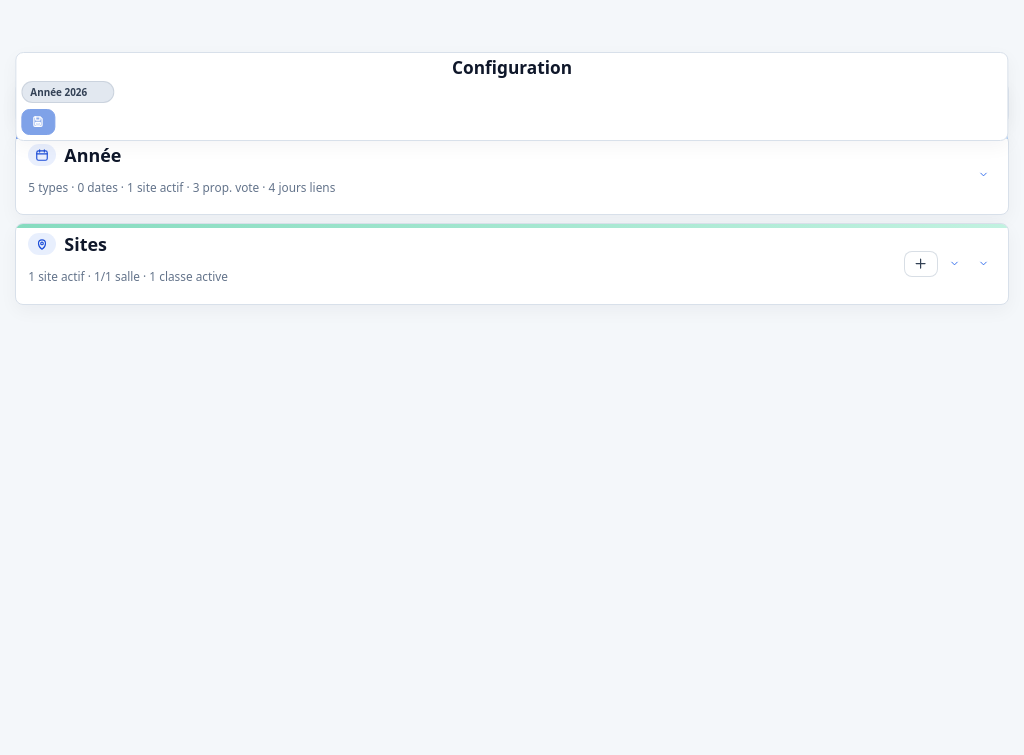
PlanningConfiguration › replie un type en affichant uniquement sa ligne de résumé
This screenshot has width=1024, height=755.
Click the button named "Ouvrir le bloc année" at (984, 175), box [972, 163, 996, 187]
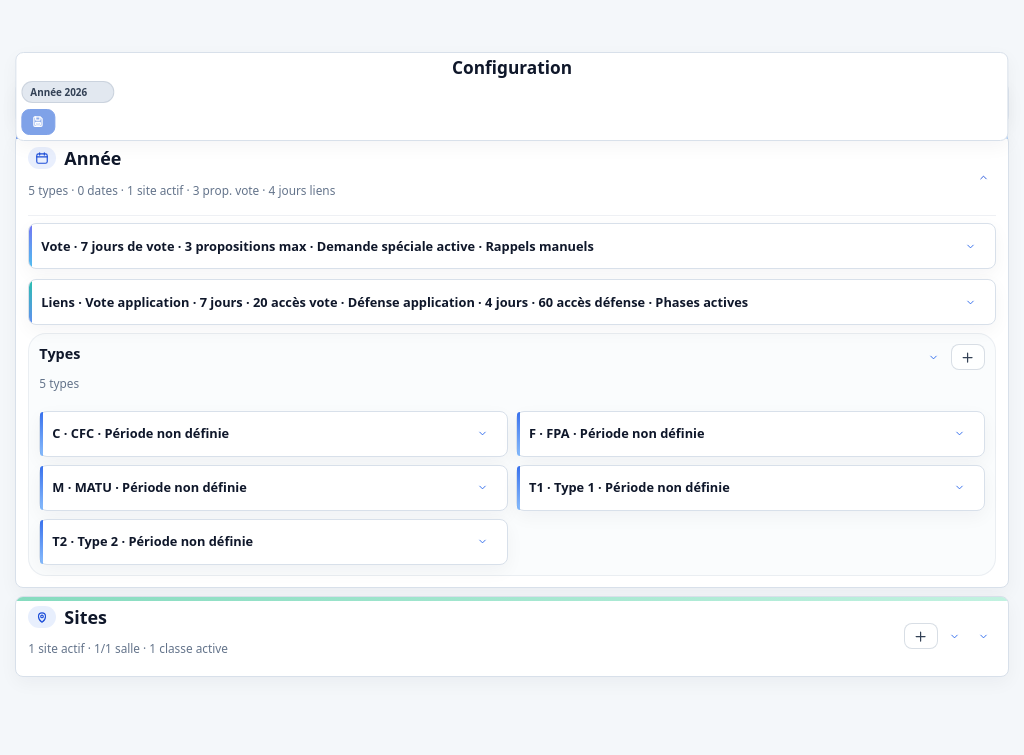
Click the button named "Ouvrir le type Type 2" at (483, 542), box [471, 530, 495, 554]
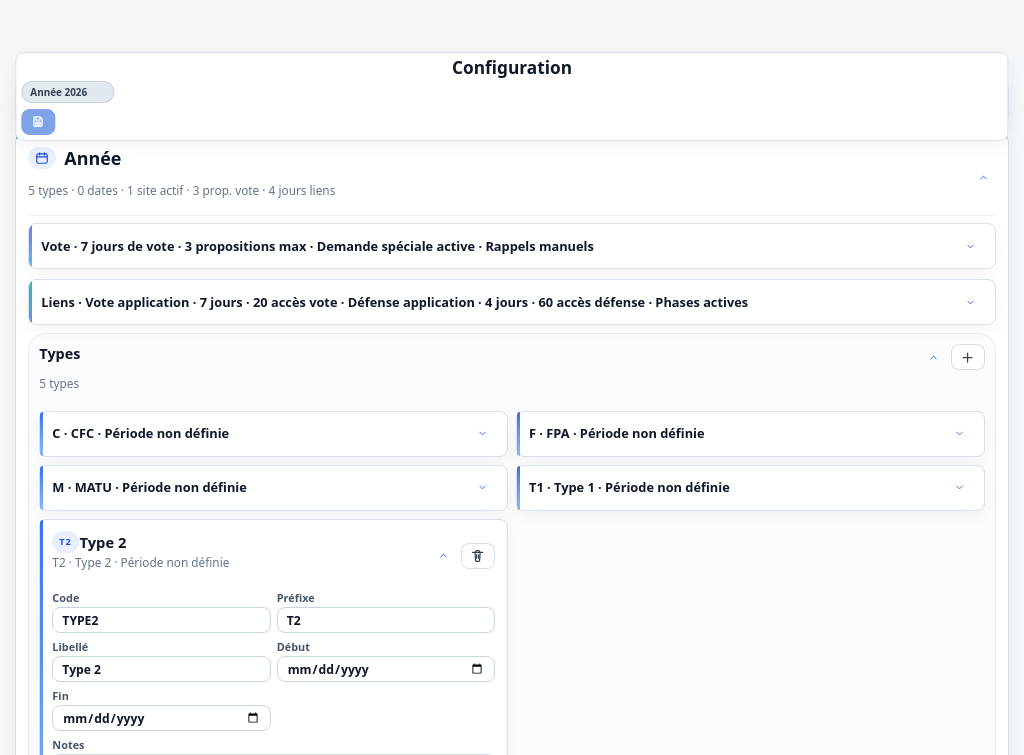
Click the button named "Réduire le type Type 2" at (444, 556), box [432, 544, 456, 568]
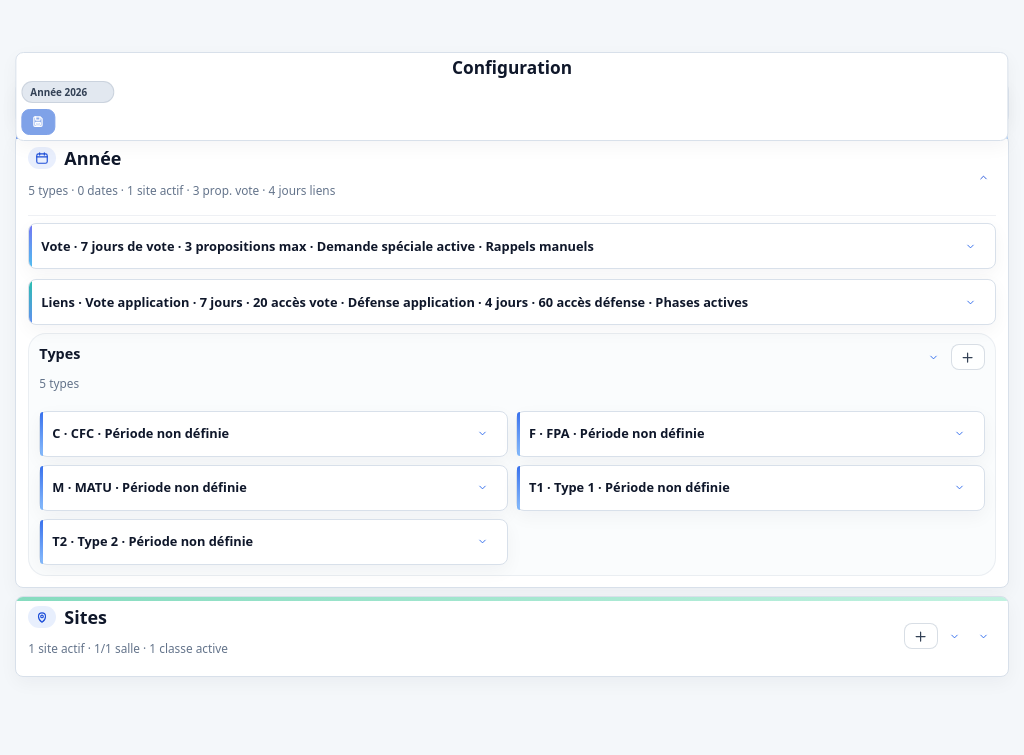
Expected: the text "T2 · Type 2 · Période non définie" is shown, [52, 532, 253, 550]
Expected: the button named "Ouvrir le type Type 2" is shown, [471, 530, 495, 554]
Expected: the button "Supprimer" is gone
